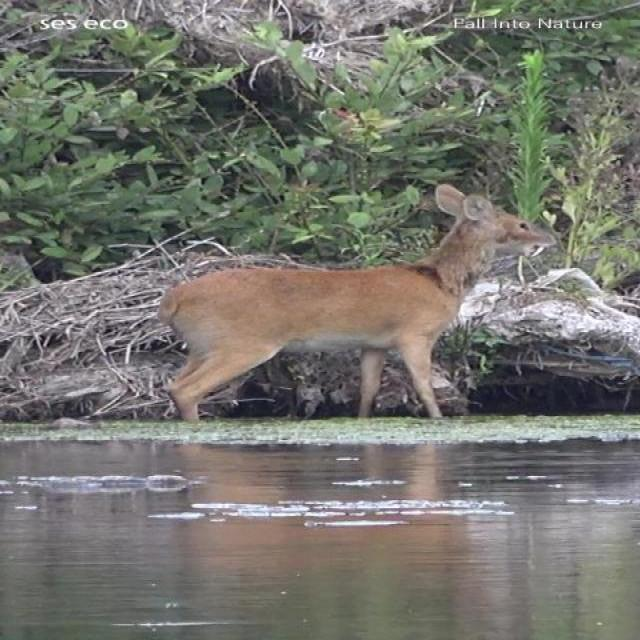deer: (155, 183, 564, 420)
